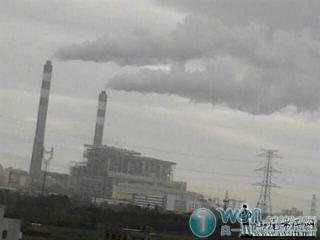dust: (96, 65, 200, 97), (44, 36, 137, 68)
